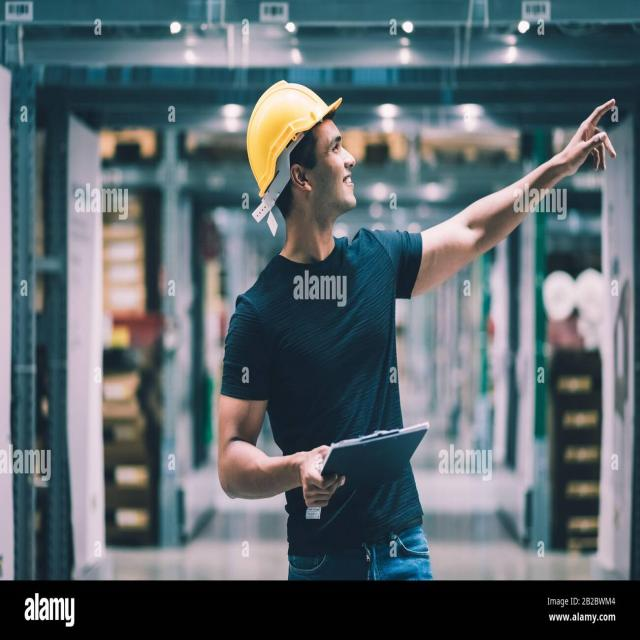Safety-Helmet: (244, 75, 342, 195)
